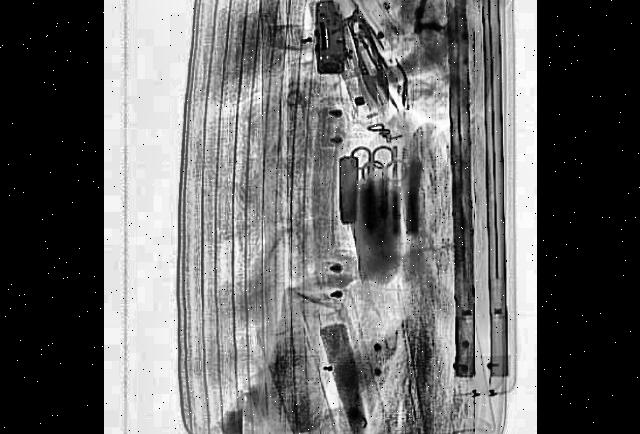Scissors: (360, 158, 404, 218), (348, 143, 394, 197)
